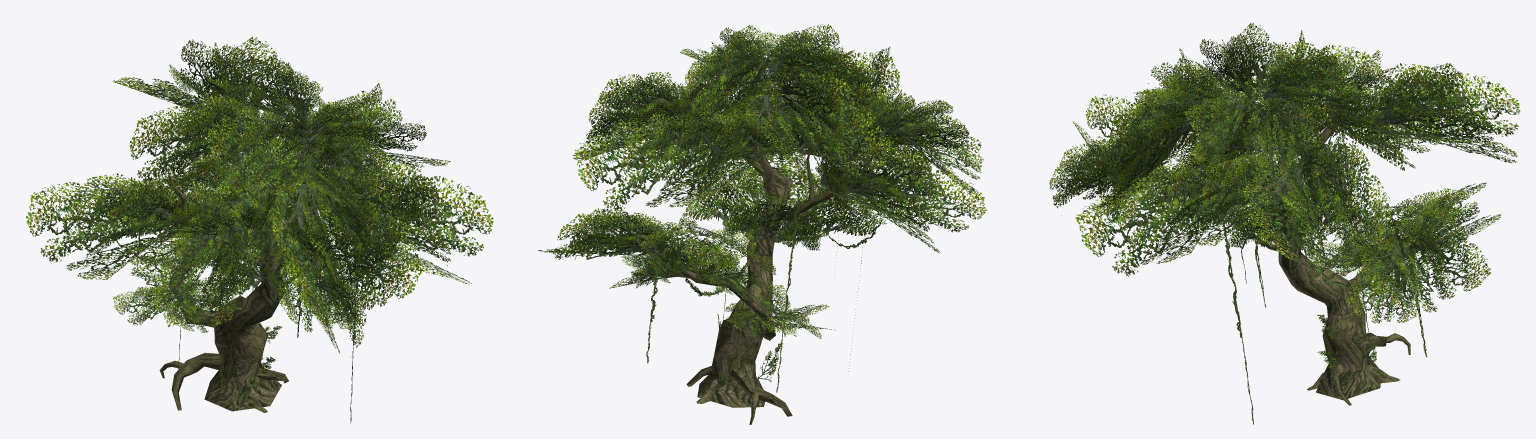
Rendered from shu.FBX.
3 views of the same model, side by side, from view 1: azimuth 30°, elevation 25°; view 2: azimuth 150°, elevation 25°; view 3: azimuth 270°, elevation 25° (orthographic).
Parts seen in each view (by area): view 1: DrawCall_0278, DrawCall_0254; view 2: DrawCall_0278, DrawCall_0254; view 3: DrawCall_0278, DrawCall_0254.
Boxes of the visible parts, x1=… form: DrawCall_0278: x1=26, y1=36, x2=493, y2=423; DrawCall_0254: x1=159, y1=135, x2=322, y2=412; DrawCall_0278: x1=538, y1=24, x2=986, y2=392; DrawCall_0254: x1=624, y1=107, x2=860, y2=424; DrawCall_0278: x1=1049, y1=23, x2=1520, y2=424; DrawCall_0254: x1=1239, y1=89, x2=1445, y2=405.
Bounding box in the file's own units: 44.9 × 39.77 × 48.34.
